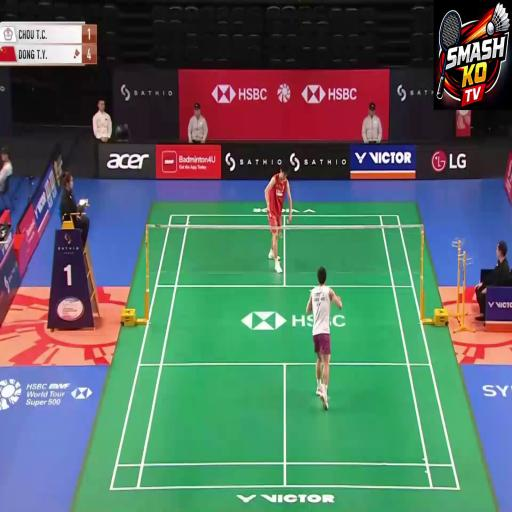player: (258, 155, 298, 289), (308, 267, 343, 418)
